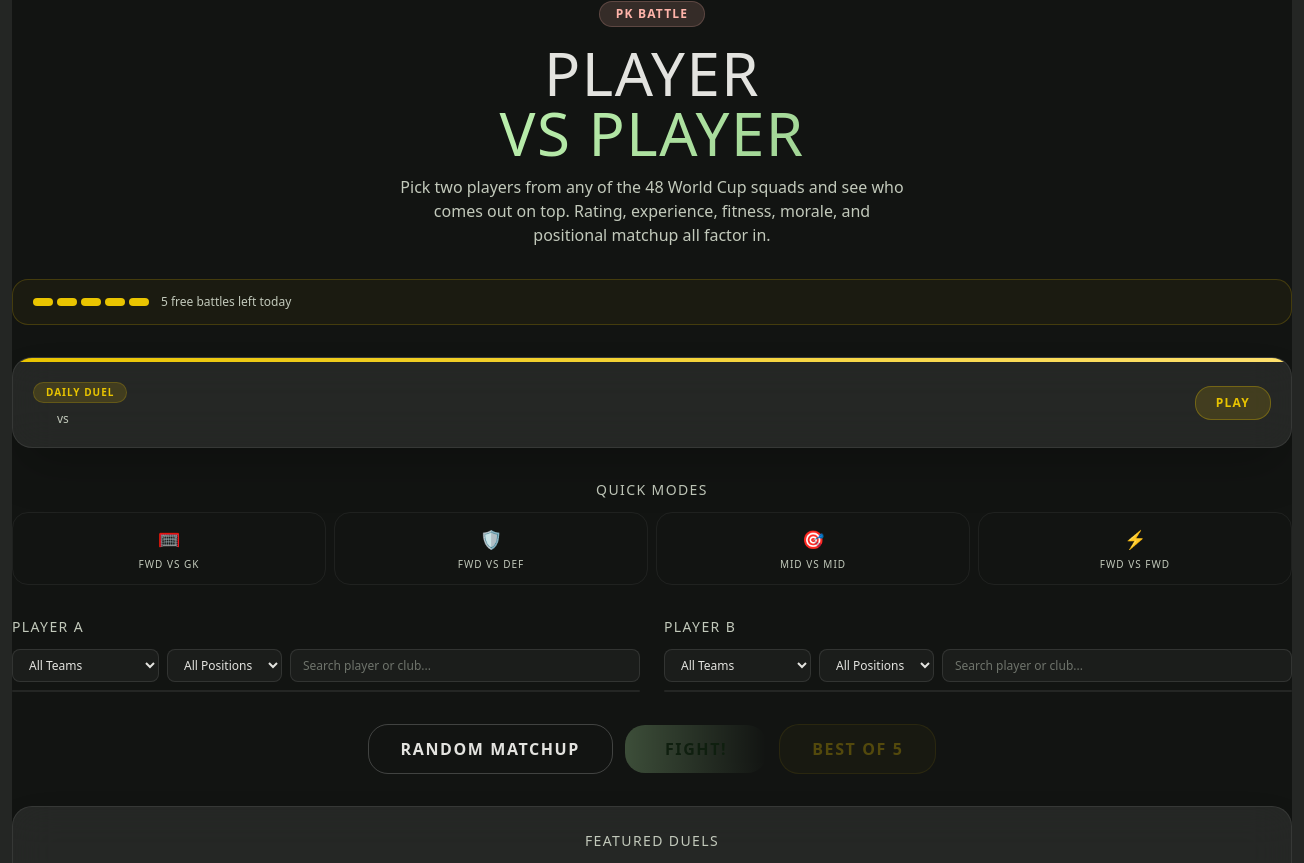
PKBattleApp › selects random players when Random Matchup is clicked
Click the button "Random Matchup": click(490, 749) 368,724 -> 613,774
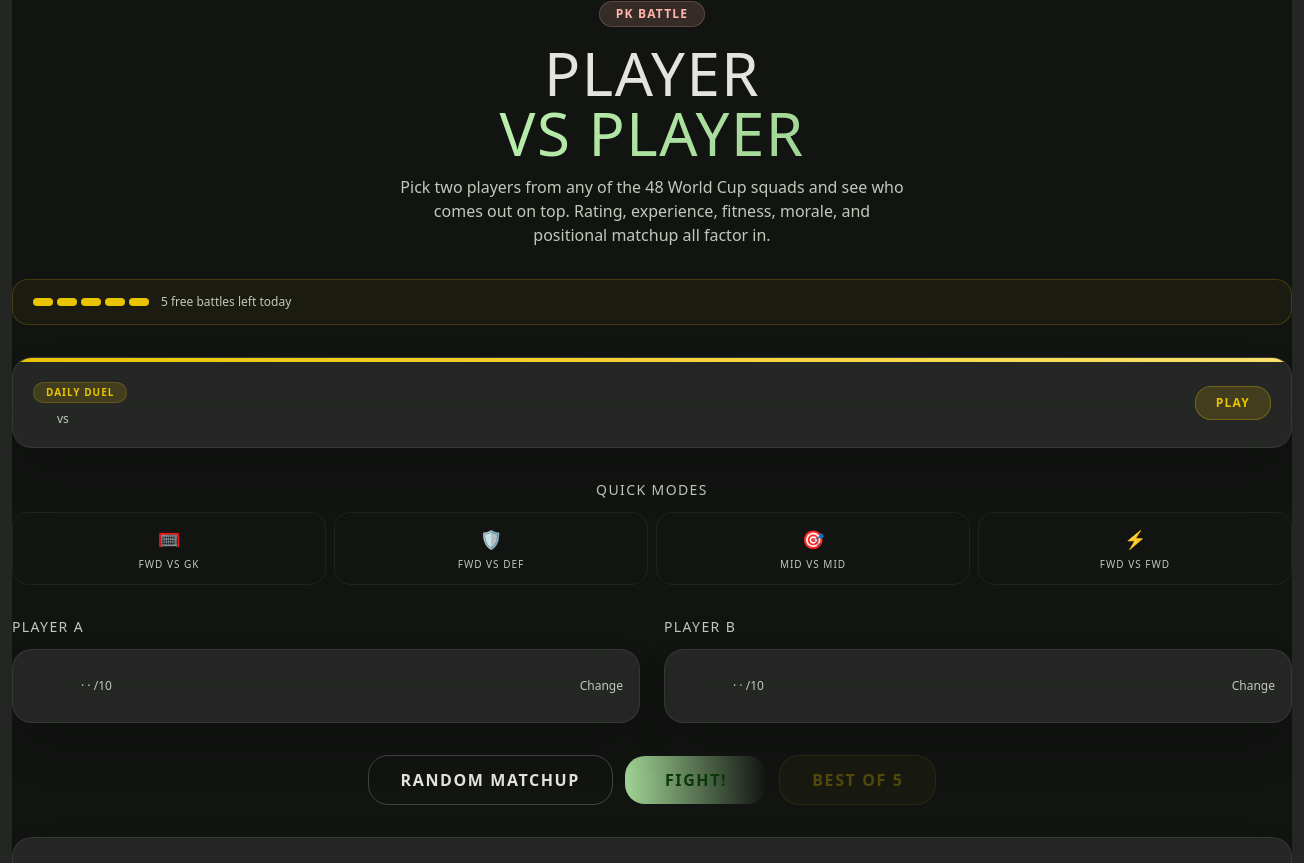
expect the number of buttons "Change" is 2: met, box 580,678 -> 623,694; 1232,678 -> 1275,694
